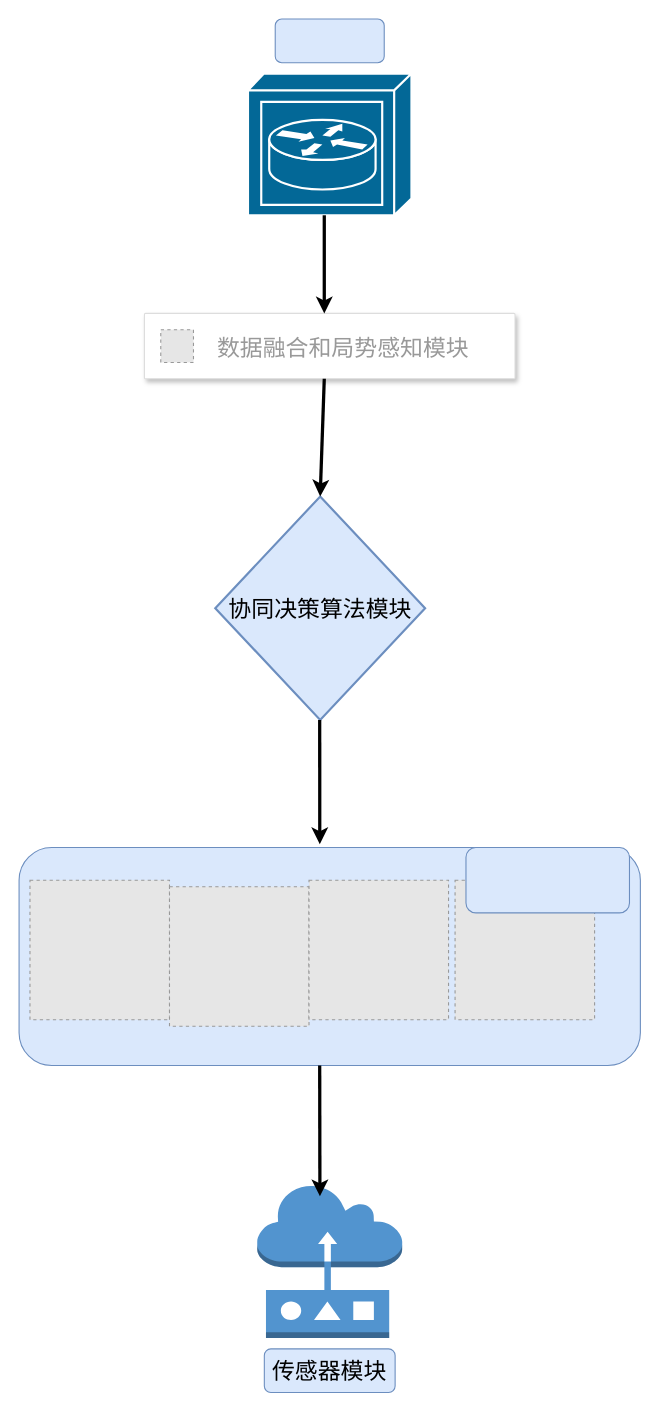
Image size: 659x1412. Some labels were removed from this diagram. Grey dashed boxes stand in for pictures. Each missing label, with the centre of its shape:
"无人艇模块" belongs at [547,879].
"通信中心" belongs at [329,40].
